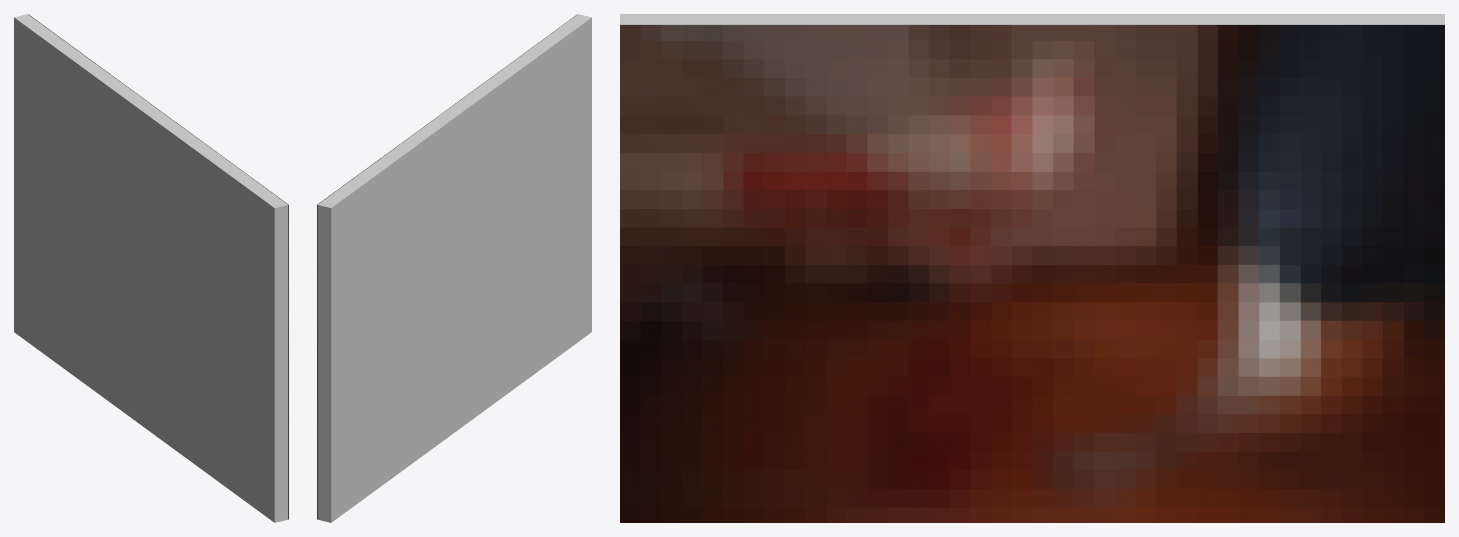
Rendered from horror_photos.glb.
3 views of the same model, side by side, from view 1: azimuth 30°, elevation 25°; view 2: azimuth 150°, elevation 25°; view 3: azimuth 270°, elevation 25° (orthographic). The views are drawn at different scales.
Visible parts, largest first — view 1: Plane.001, Plane.002; view 2: Plane.001, Plane.002; view 3: Plane.002, Plane.001.
Part boxes in pixels (<box>): Plane.001: <box>14,14,288,522</box>; Plane.002: <box>28,14,288,519</box>; Plane.001: <box>317,14,591,522</box>; Plane.002: <box>317,14,577,519</box>; Plane.002: <box>620,25,1444,522</box>; Plane.001: <box>620,14,1444,24</box>.
Size of the model in its own units: 0.0372 by 0.7924 by 1.19.
Materials: 2 (1 with a texture image).
